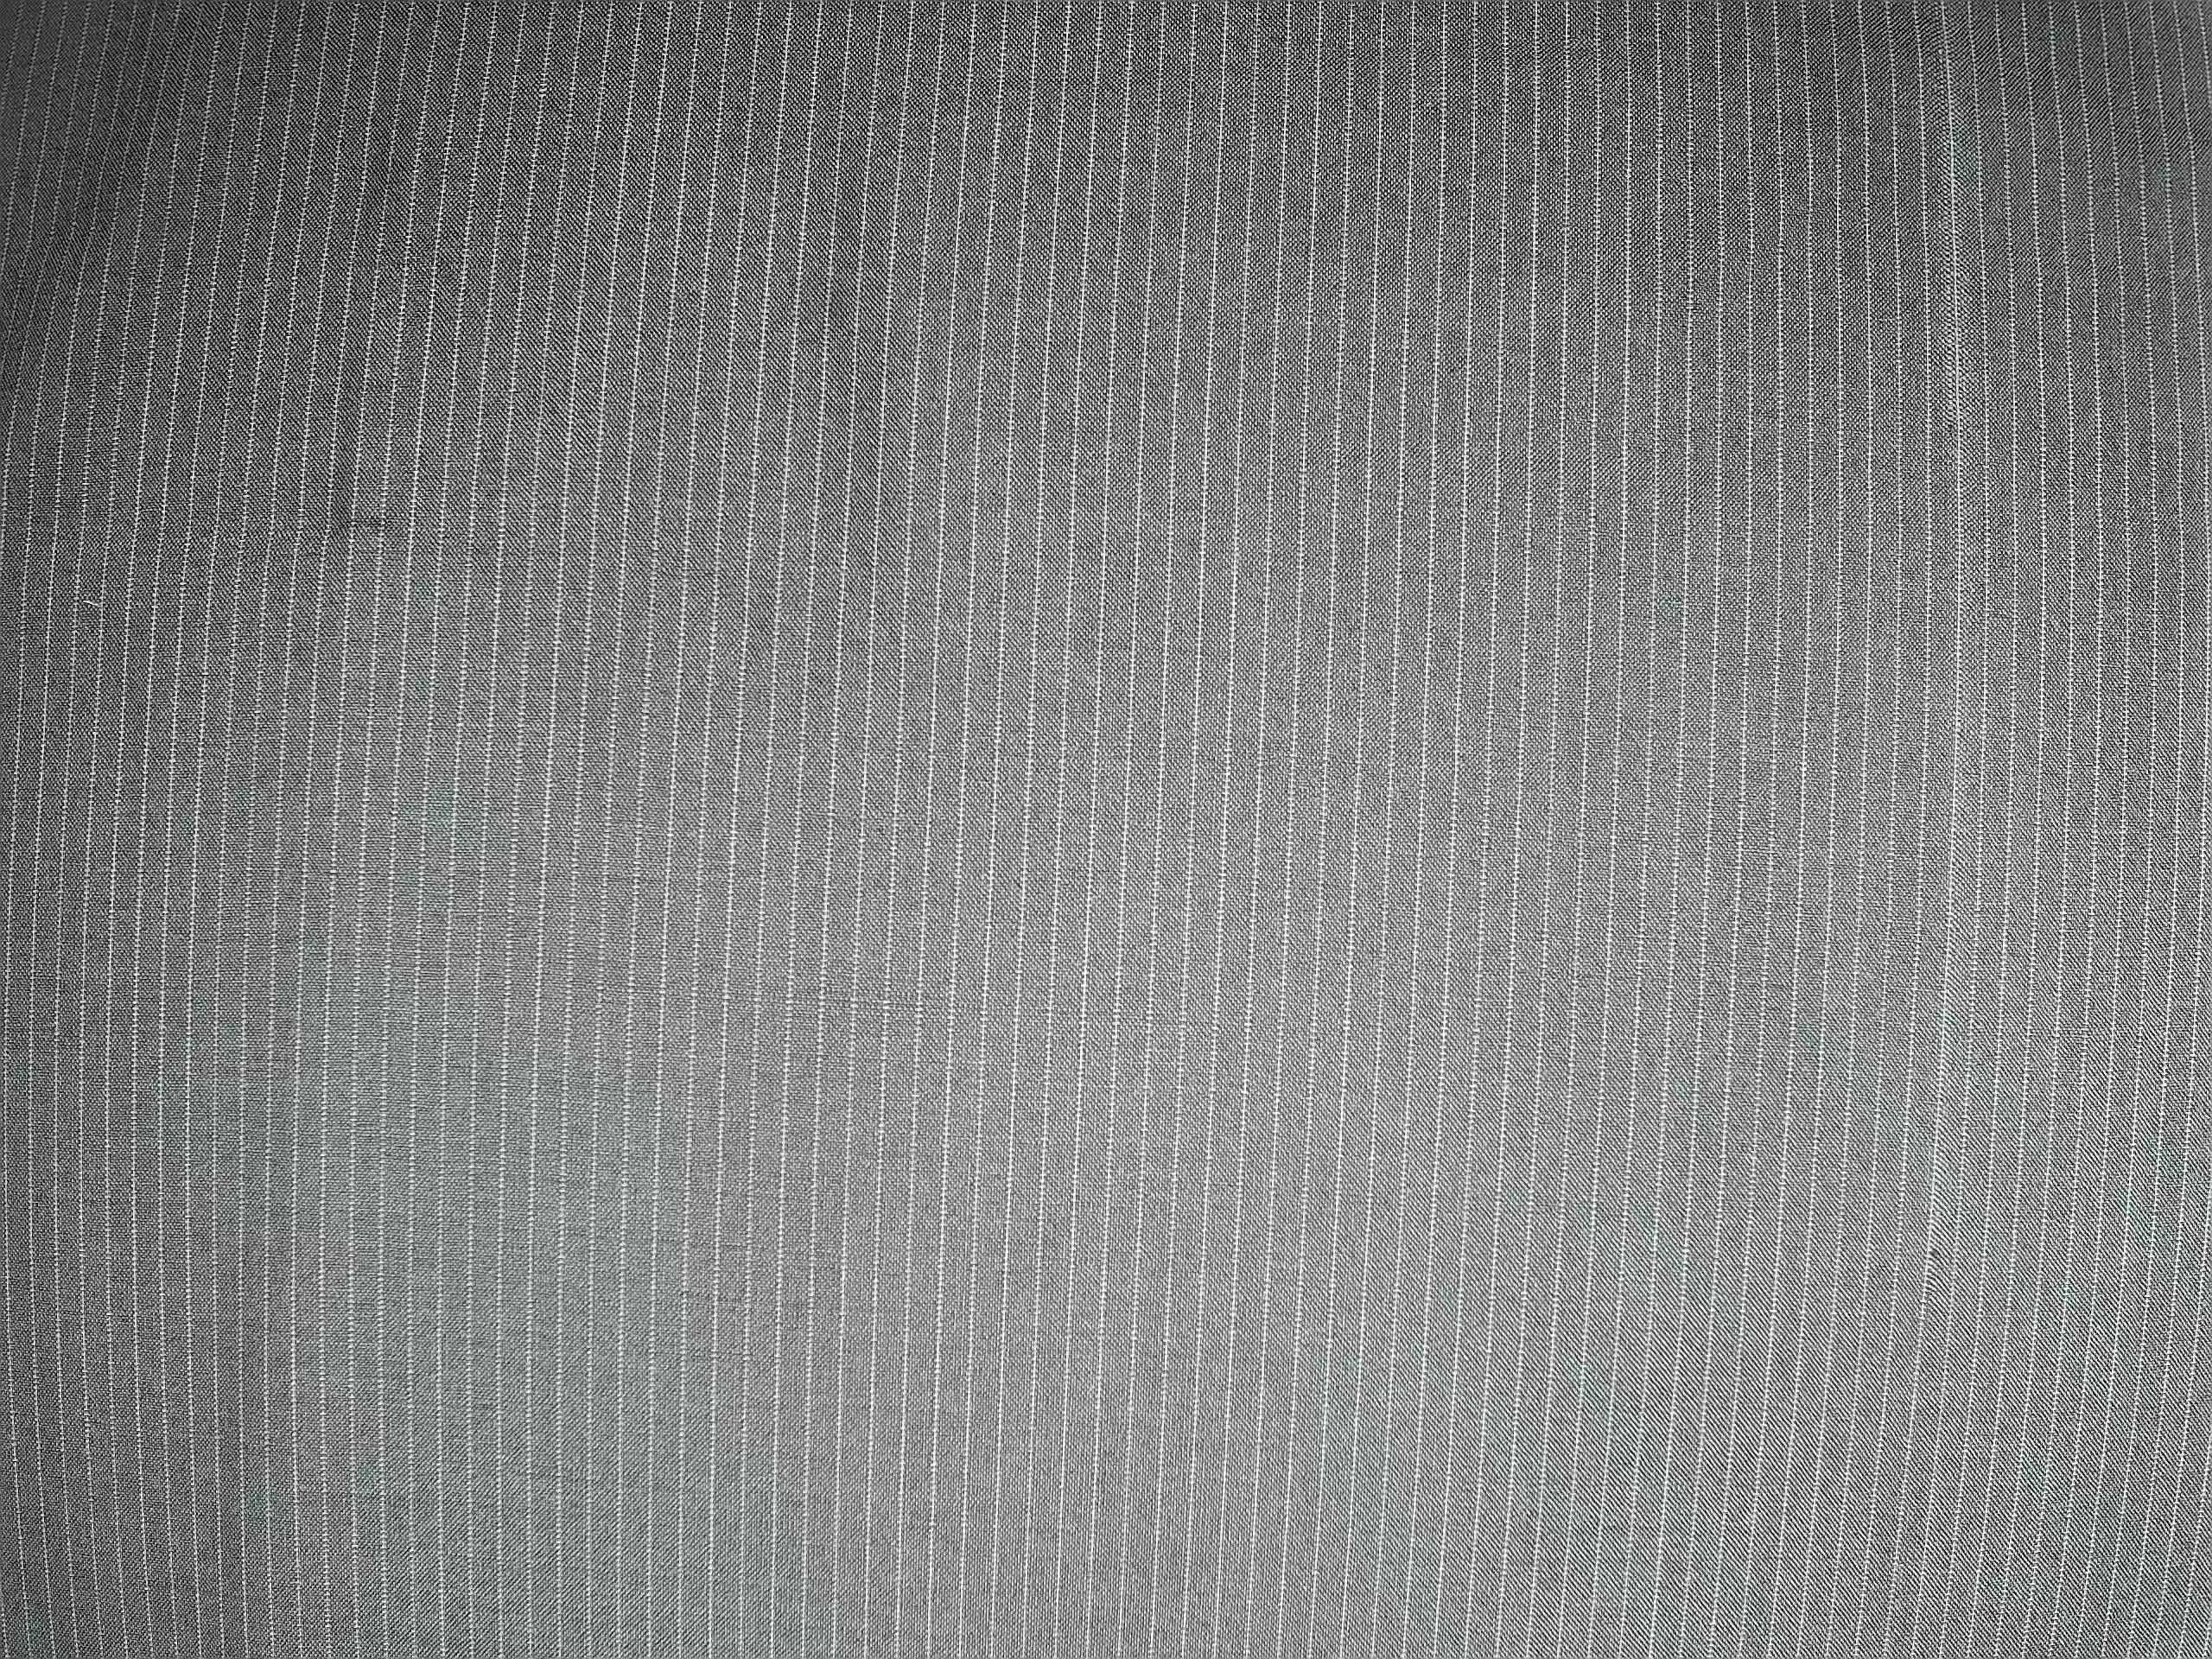lacking-warp: (1911, 10, 1991, 1373)
